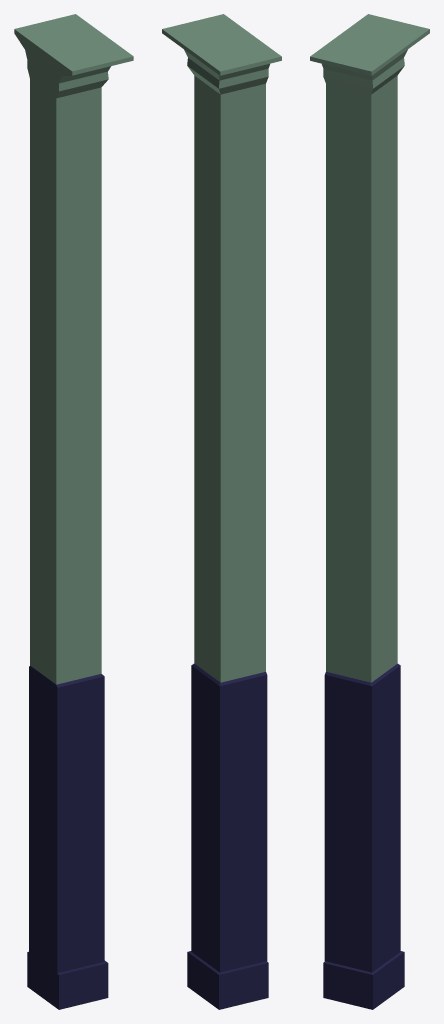
File: wall_end.fbx
3 views of the same model, side by side, from view 1: azimuth 30°, elevation 25°; view 2: azimuth 210°, elevation 25°; view 3: azimuth 330°, elevation 25° (orthographic).
Parts seen in each view (by area): view 1: Cube; view 2: Cube; view 3: Cube.
Part boxes in pixels (x1,y1,x2,y2): Cube: [14, 14, 133, 1009]; Cube: [162, 14, 281, 1009]; Cube: [310, 14, 429, 1009].
Bounding box in the file's own units: 20.41 × 300 × 33.28.
